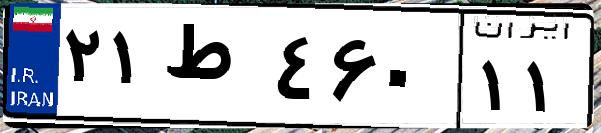0: (385, 28, 445, 110)
1: (475, 38, 525, 113), (525, 38, 570, 115), (110, 28, 158, 98)
2: (57, 26, 110, 100)
4: (270, 28, 330, 110)
6: (330, 28, 385, 110)
ط: (158, 20, 270, 120)
